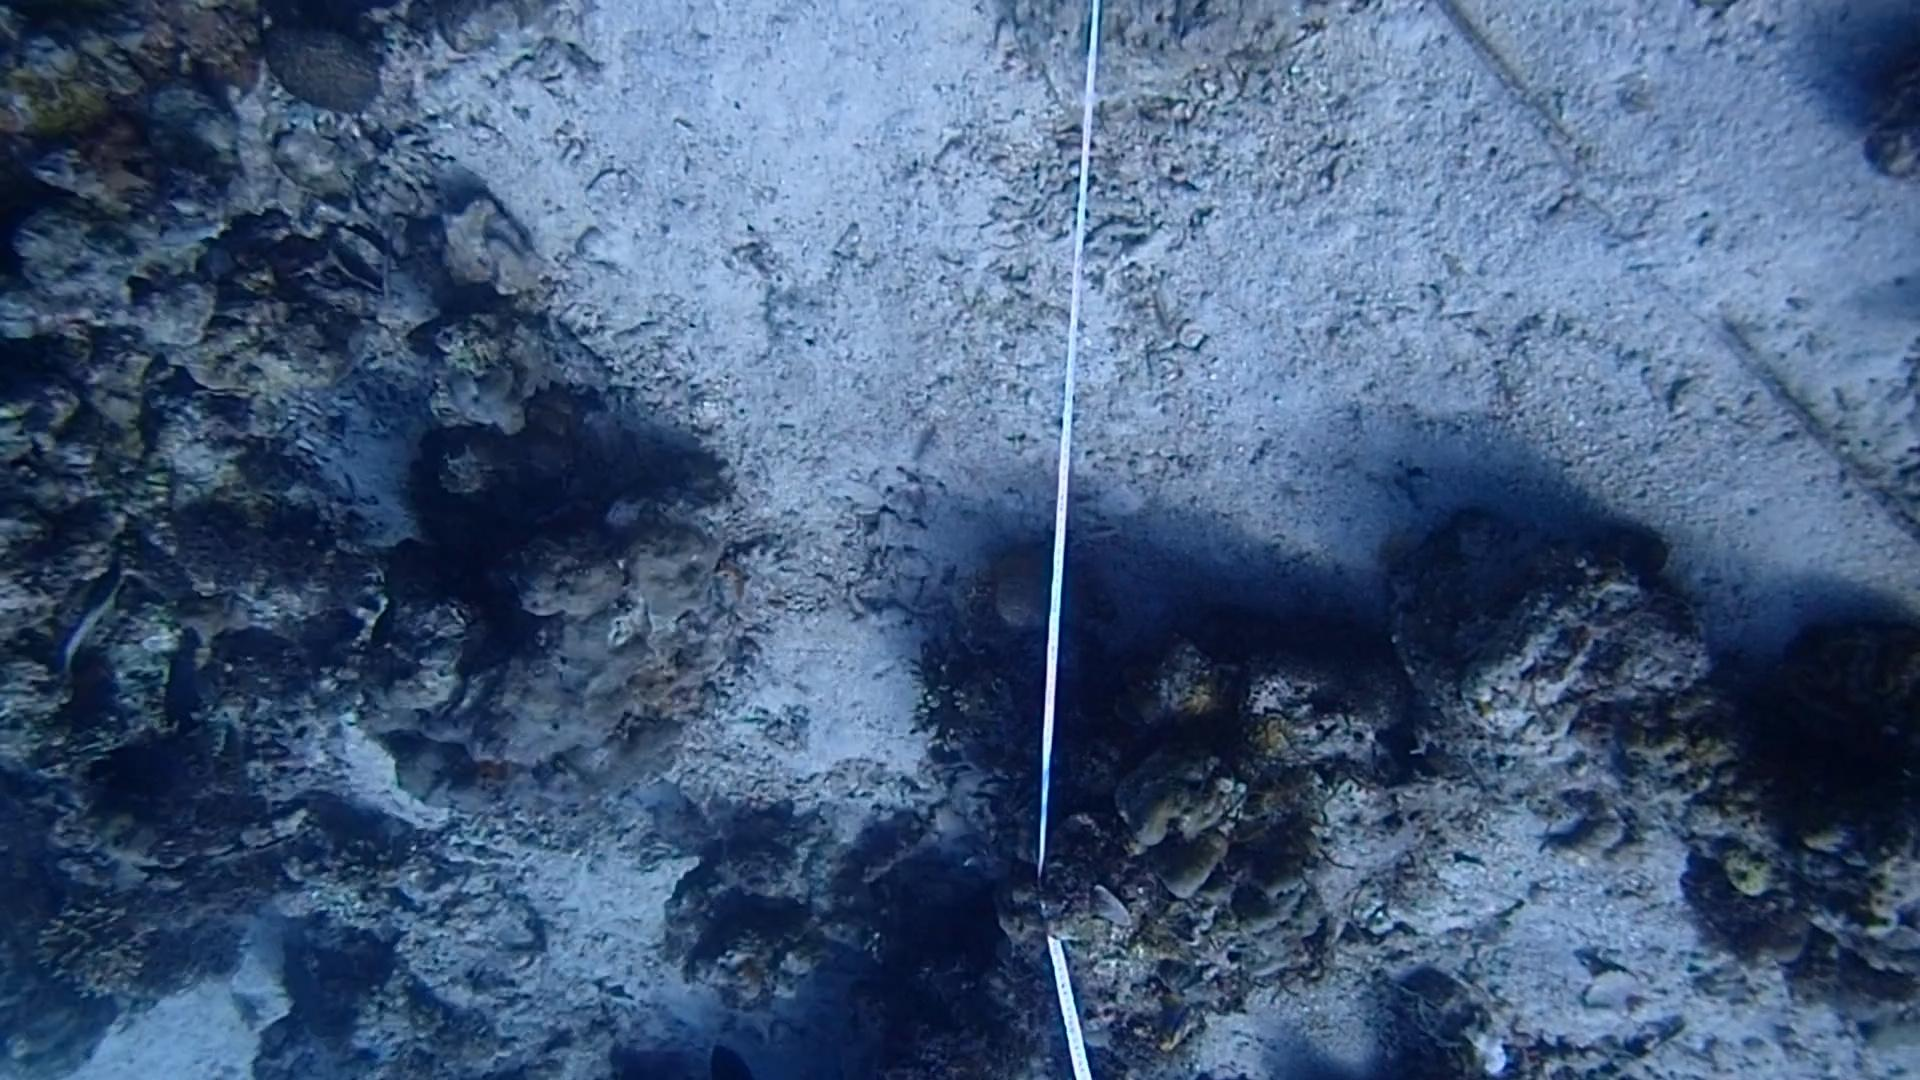Dark Fish: (80, 727, 198, 802), (144, 650, 210, 741)
